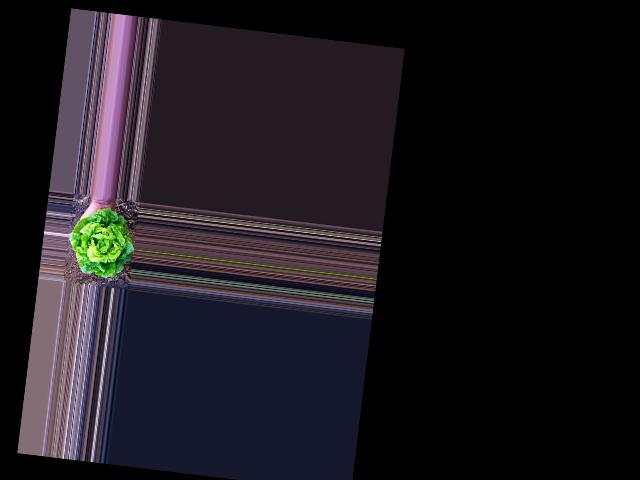lettuce: (67, 208, 136, 281)
